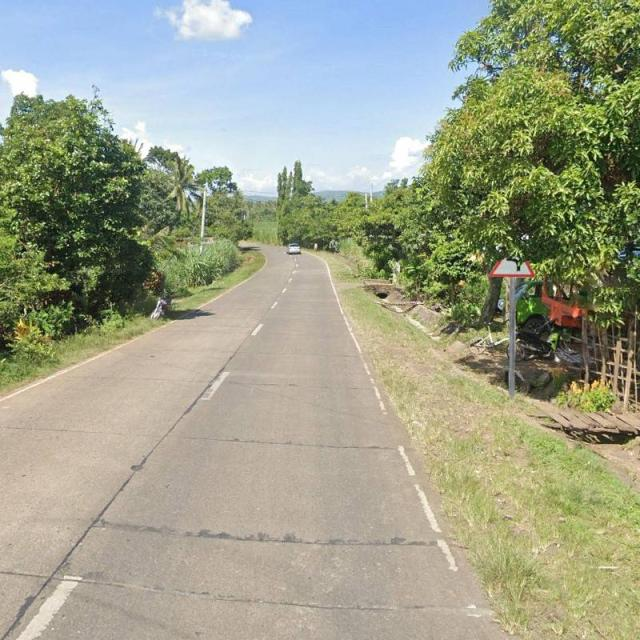warn_left_curve: (489, 236, 535, 277)
